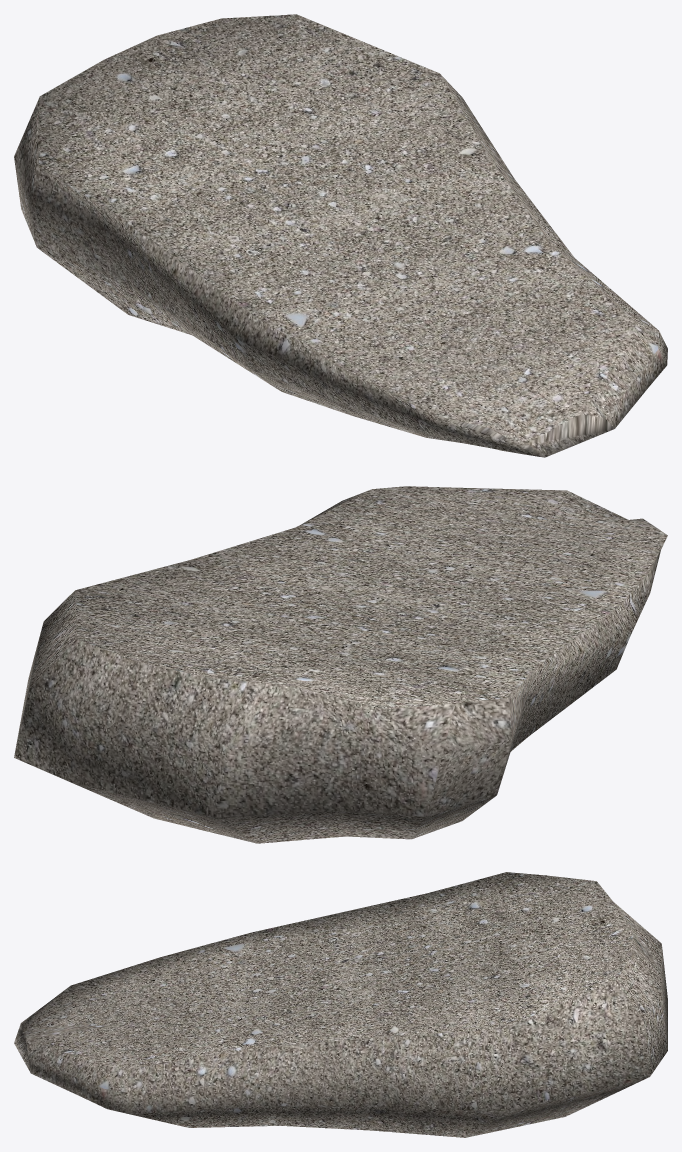
Rendered from chunk2.fbx.
3 views of the same model, one above another, from view 1: azimuth 30°, elevation 25°; view 2: azimuth 150°, elevation 25°; view 3: azimuth 270°, elevation 25° (orthographic). The views are drawn at different scales.
Parts seen in each view (by area): view 1: Grid; view 2: Grid; view 3: Grid.
Part boxes in pixels (x1,y1,x2,y2): Grid: (14,14,667,457); Grid: (14,486,667,843); Grid: (14,872,667,1137).
Size of the model in its own units: 129 by 48.95 by 206.
Materials: 1 (1 with a texture image).
